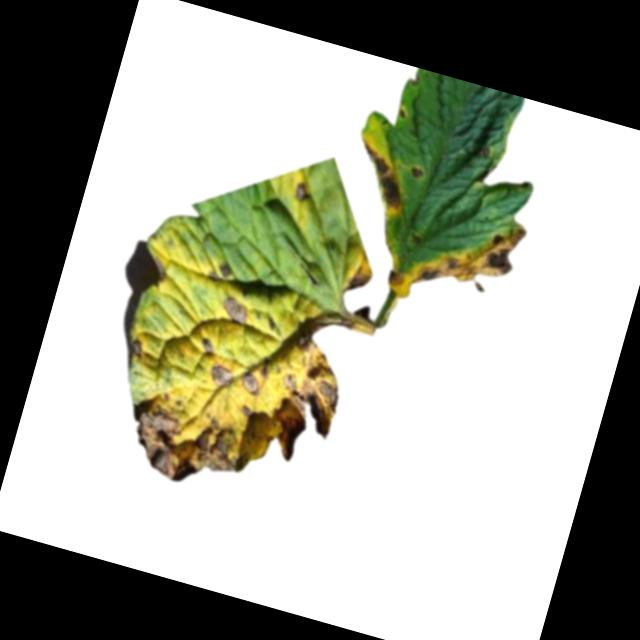Early_blight: (111, 385, 261, 500), (413, 201, 527, 308), (260, 343, 350, 470), (343, 135, 417, 216), (289, 300, 355, 357), (216, 292, 253, 327), (346, 260, 376, 299), (236, 367, 265, 399), (203, 257, 233, 286), (207, 361, 238, 389), (384, 263, 408, 288), (126, 335, 148, 358), (196, 336, 217, 359), (294, 179, 312, 200), (409, 161, 426, 182)
